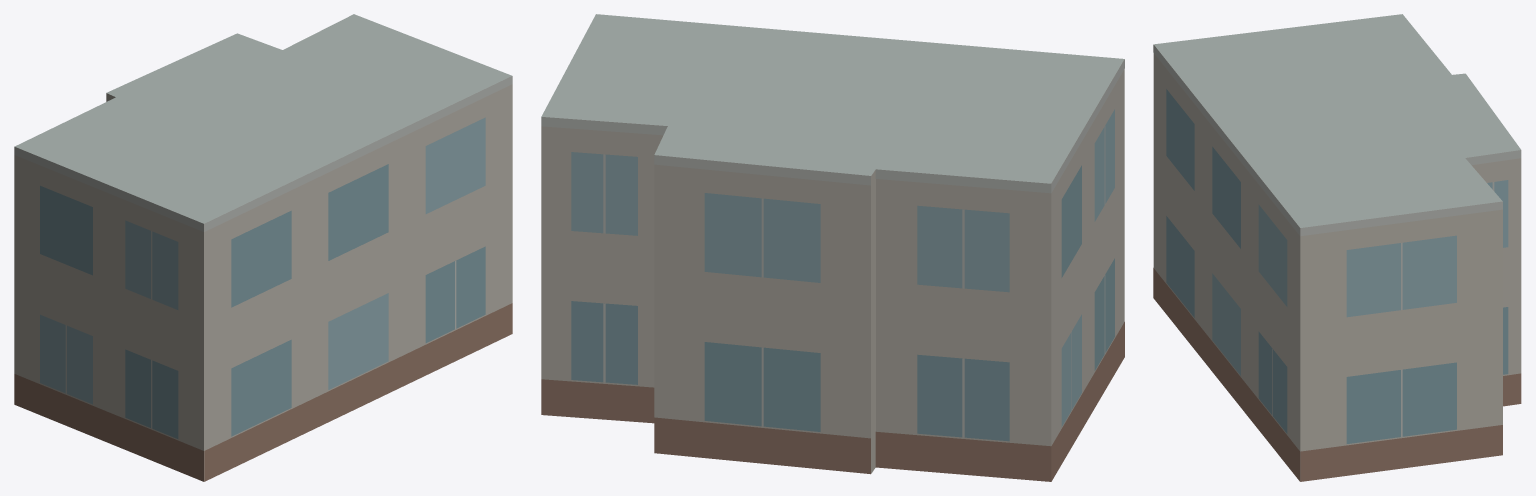
Rendered from survey-upis-32600478.glb.
3 views of the same model, side by side, from view 1: azimuth 30°, elevation 25°; view 2: azimuth 150°, elevation 25°; view 3: azimuth 270°, elevation 25° (orthographic). The views are drawn at different scales.
Visible parts, largest first — view 1: survey-upis-32600478.tmp; view 2: survey-upis-32600478.tmp; view 3: survey-upis-32600478.tmp.
Boxes of the visible parts, <box> form: survey-upis-32600478.tmp: <box>14,14,512,481</box>; survey-upis-32600478.tmp: <box>541,14,1124,481</box>; survey-upis-32600478.tmp: <box>1153,14,1521,481</box>.
Bounding box in the file's own units: 13.76 × 7.6 × 10.
